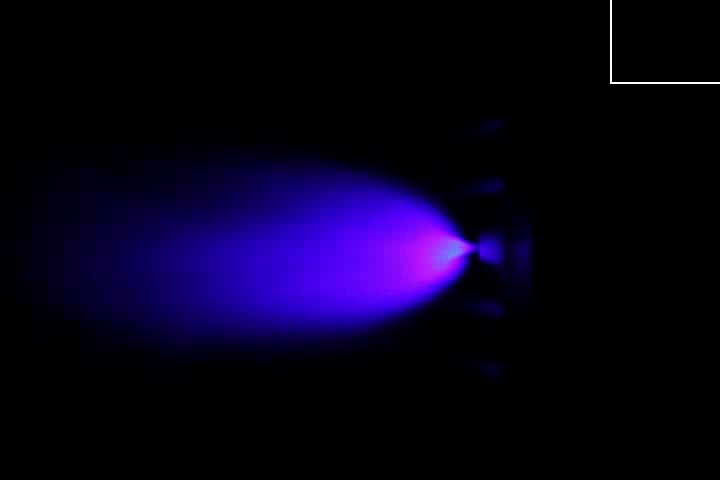burner cap: (476, 231, 506, 265)
stable: (387, 212, 473, 296)
